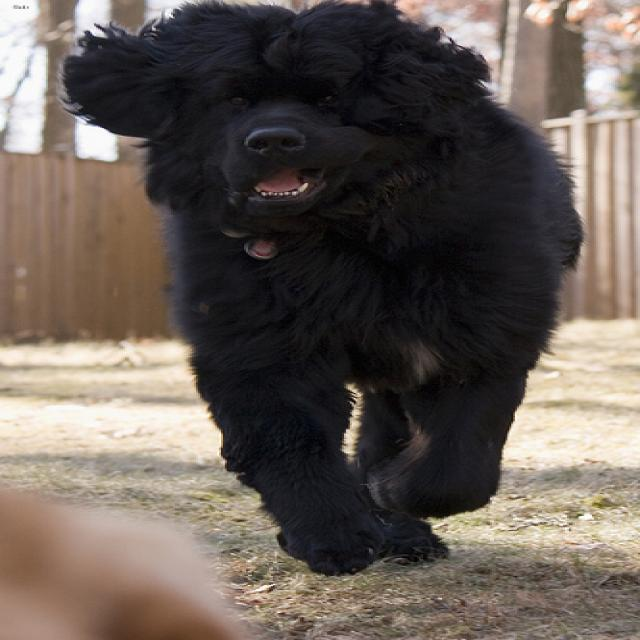dog-newfoundland: (40, 1, 609, 588)
